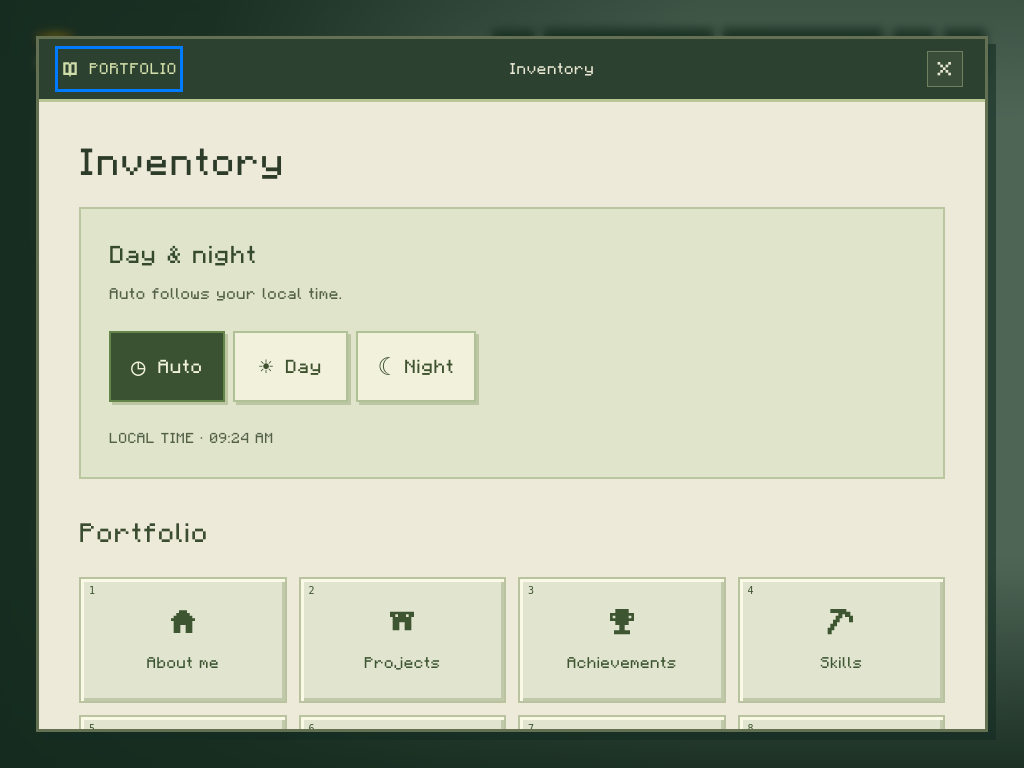
Test case: inventory switches lighting and chat accepts portfolio questions
This screenshot has width=1024, height=768.
Click the button "☾ Night" at (416, 366), box [356, 331, 476, 402]
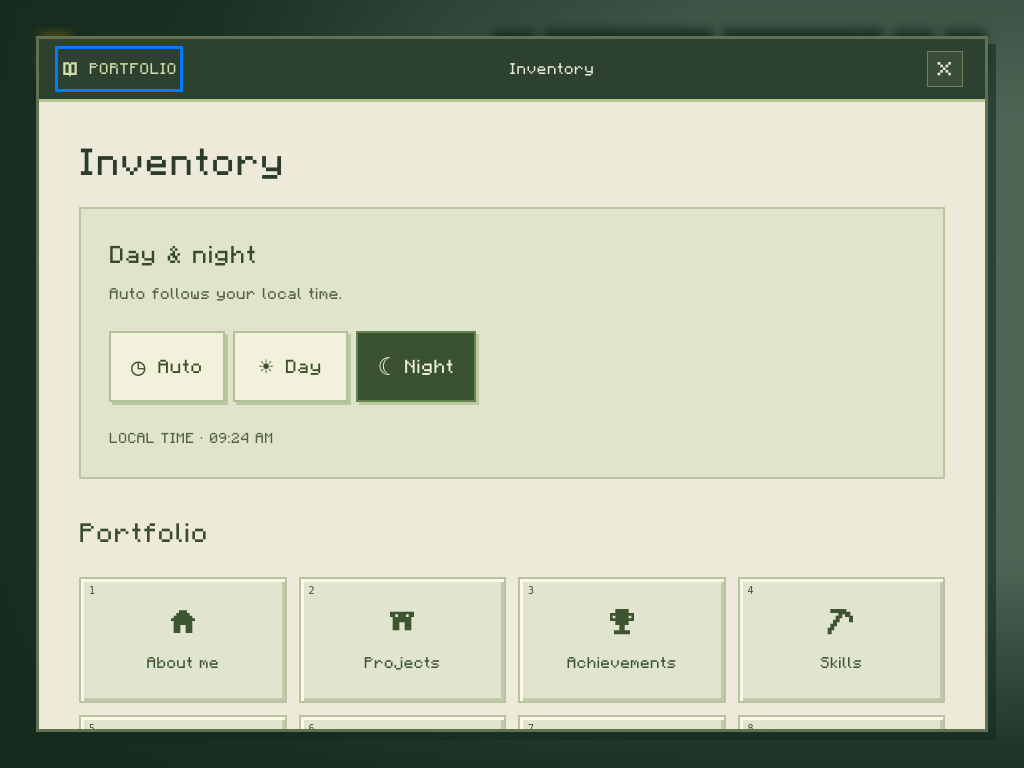
Result: the element that starts with "Skip walking and browse portfolio" has attribute data-lighting="night"
Click the button named "close portfolio" at (945, 69), box [927, 51, 963, 87]
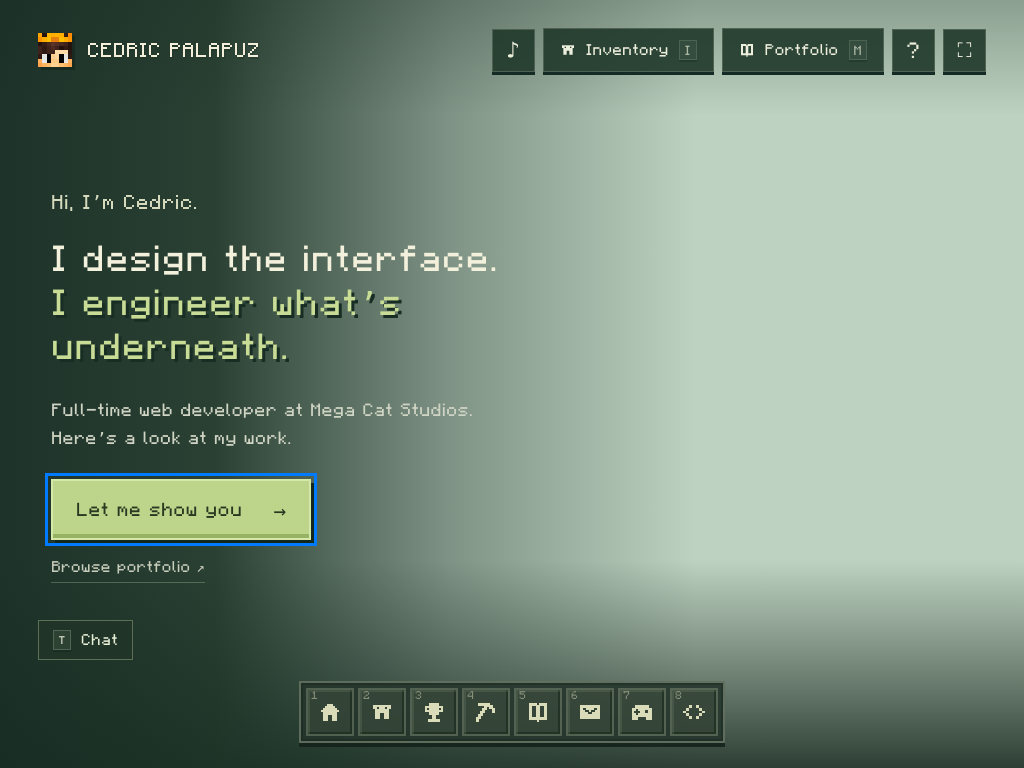
Press KeyT
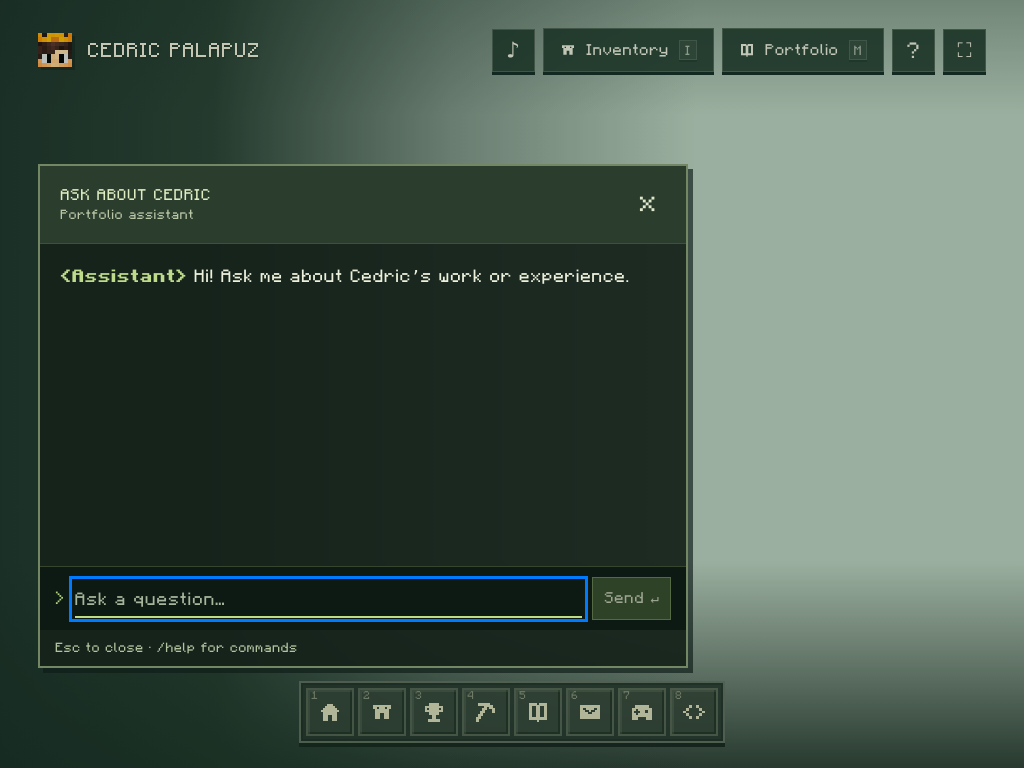
Type "GitHub contributions" into the field named "message the portfolio assistant" at (328, 599), box [75, 582, 582, 616]
Click the button "Send ↵" at (631, 599), box [592, 577, 671, 620]
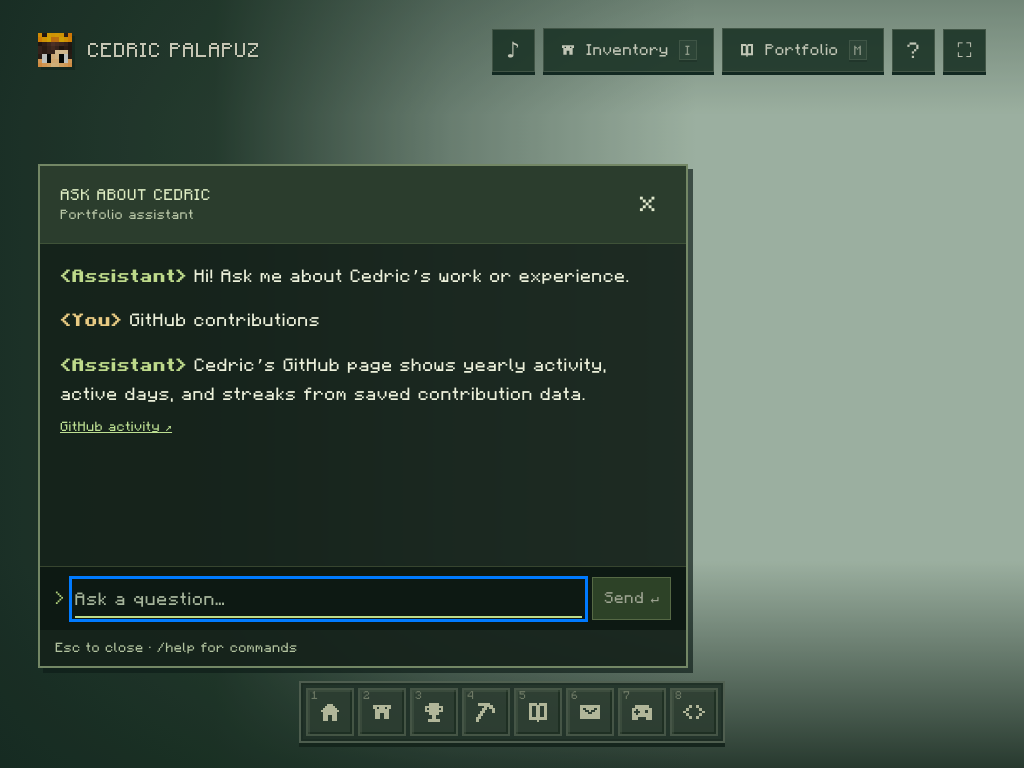
Type "/clear" into the field named "message the portfolio assistant" at (328, 599), box [75, 582, 582, 616]
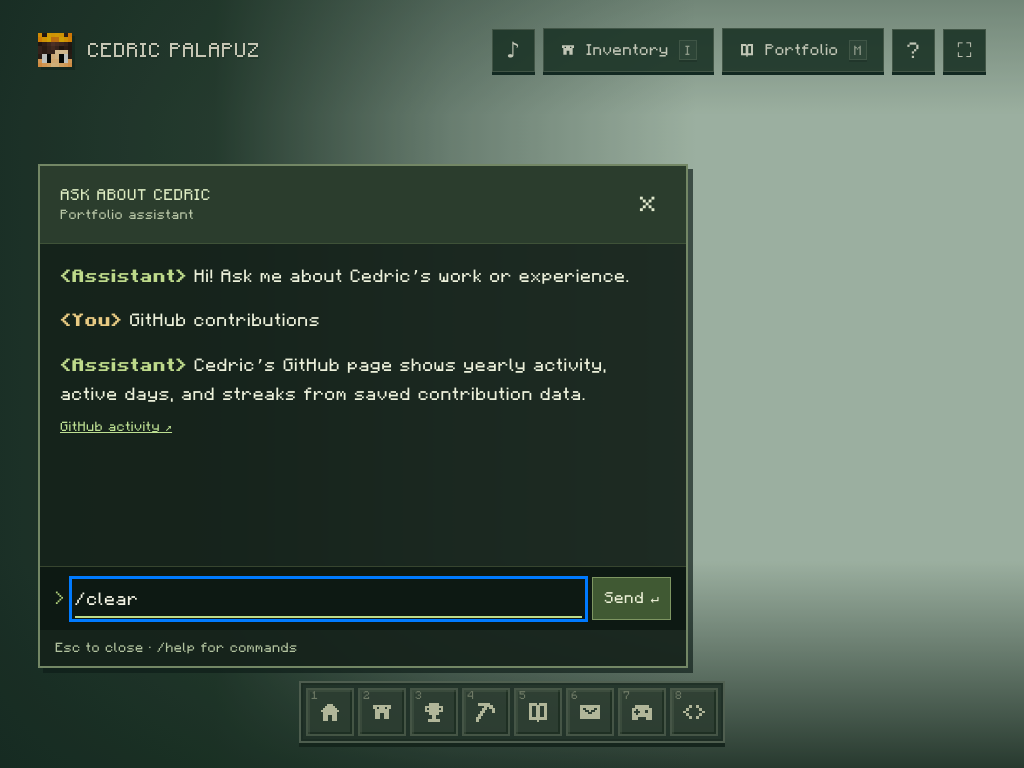
Click the button "Send ↵" at (631, 599), box [592, 577, 671, 620]
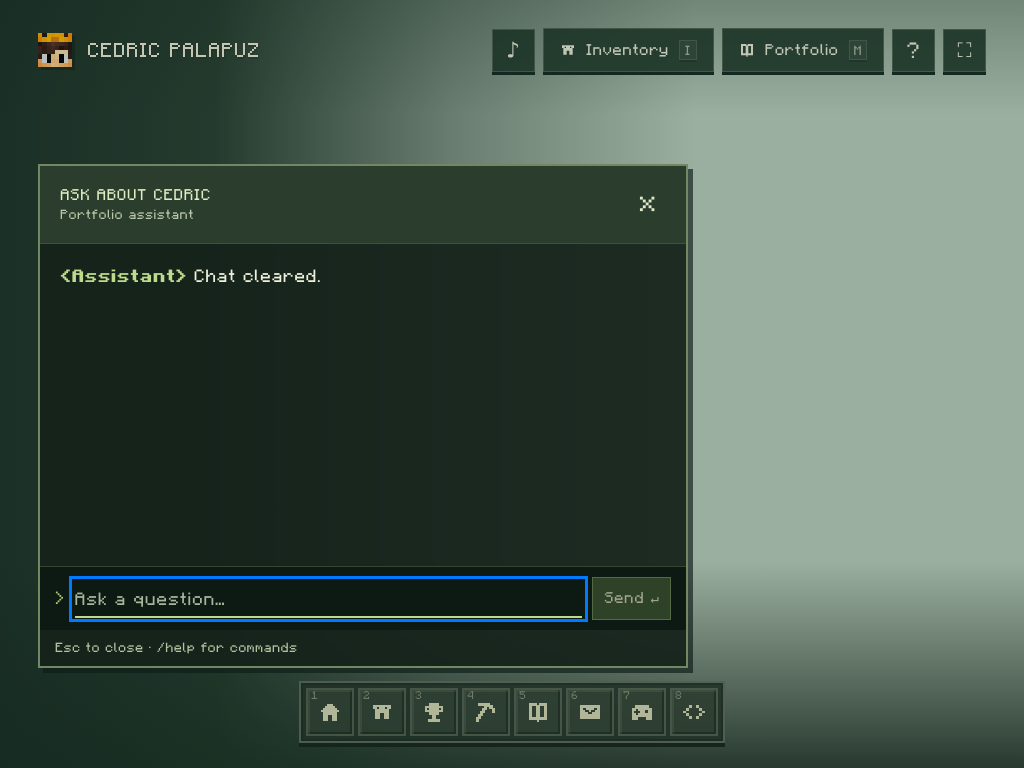
Result: the text "<Assistant> Chat cleared." is shown at [60, 268, 321, 284]
